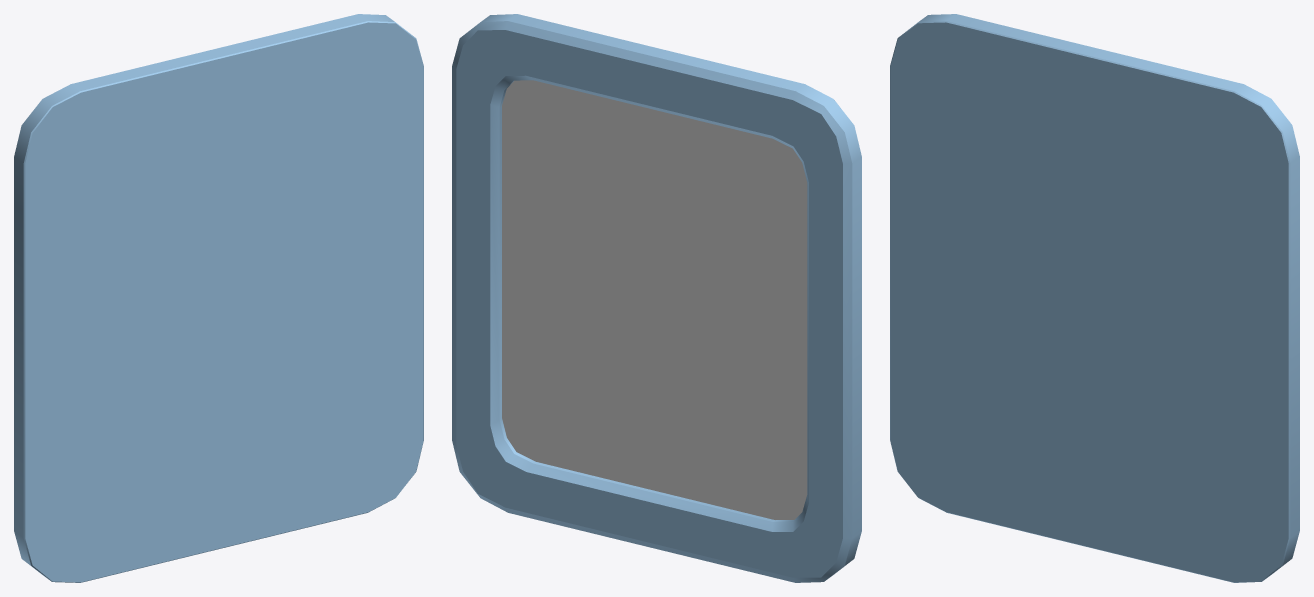
Rendered from Mirror.fbx.
The picture shows the model from 3 angles, left to right: view 1: azimuth 30°, elevation 25°; view 2: azimuth 150°, elevation 25°; view 3: azimuth 330°, elevation 25°; orthographic projection.
Parts seen in each view (by area): view 1: Mirror; view 2: Mirror; view 3: Mirror.
Part boxes in pixels (x1,y1,x2,y2): Mirror: (14, 14, 423, 582); Mirror: (452, 14, 861, 582); Mirror: (890, 14, 1299, 582).
Bounding box in the file's own units: 0.6845 × 0.8038 × 0.0378.
